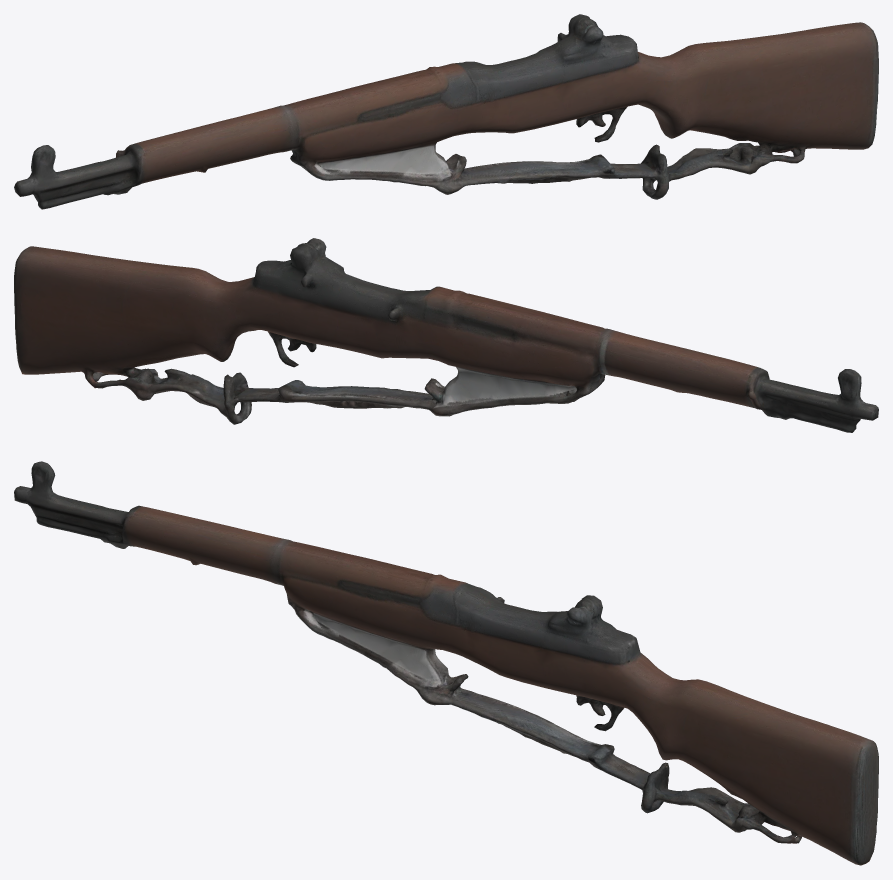
File: automata.glb
The picture shows the model from 3 angles, top to bottom: view 1: azimuth 30°, elevation 25°; view 2: azimuth 150°, elevation 25°; view 3: azimuth 330°, elevation 25°; orthographic projection.
Bounding box in the file's own units: 2 × 0.4547 × 0.1211.
1 material, 1 textured.
